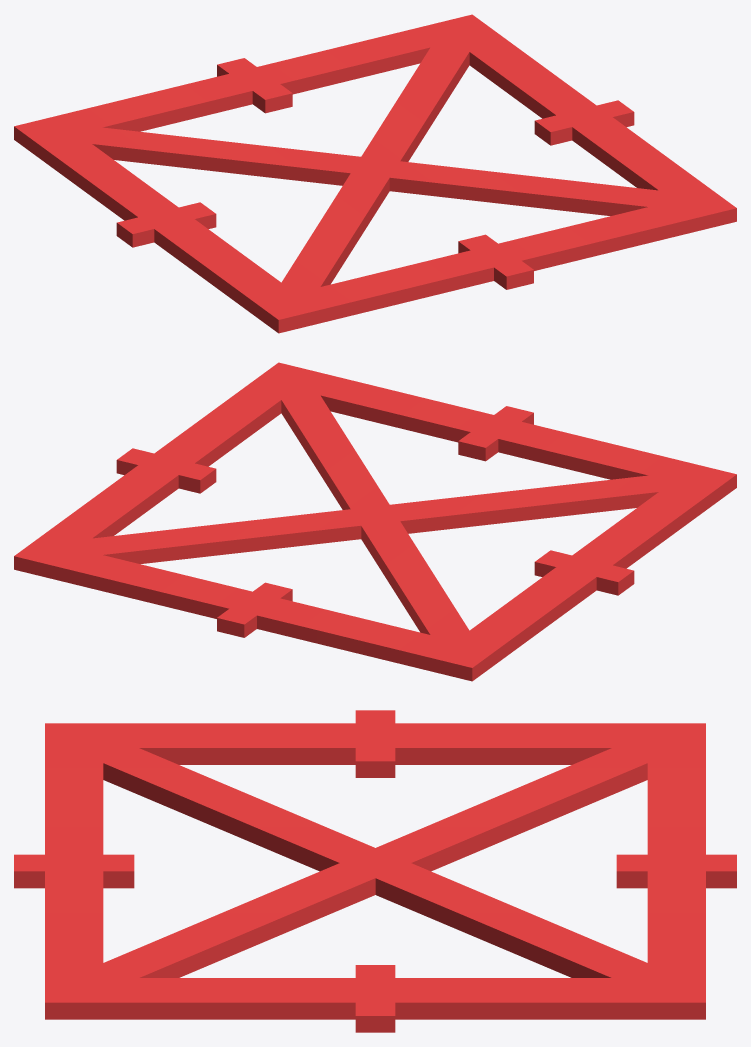
File: Mesh_CellRed.fbx
3 views of the same model, one above another, from view 1: azimuth 30°, elevation 25°; view 2: azimuth 150°, elevation 25°; view 3: azimuth 270°, elevation 25° (orthographic). The views are drawn at different scales.
Visible parts, largest first — view 1: grilla.mal; view 2: grilla.mal; view 3: grilla.mal.
Boxes of the visible parts, x1,y1,x2,y2 form: grilla.mal: (14, 14, 736, 333); grilla.mal: (14, 362, 736, 681); grilla.mal: (14, 710, 736, 1032).
Size of the model in its own units: 99.05 by 99.05 by 2.55.
